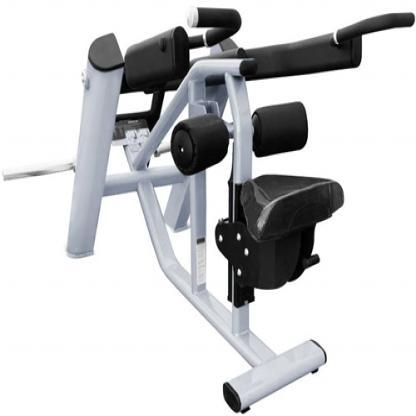seated dip machine: (4, 9, 416, 416)
